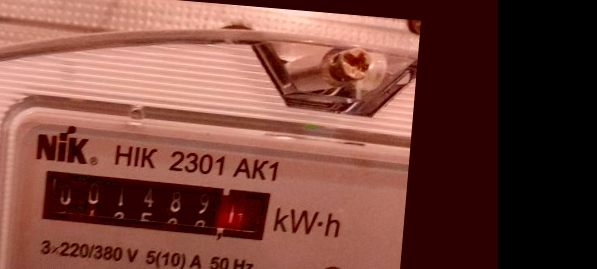0: (84, 178, 102, 204), (56, 179, 73, 206)
1: (112, 179, 129, 209), (223, 195, 238, 225)
4: (139, 182, 157, 210)
8: (165, 185, 184, 213)
9: (194, 189, 211, 215)
screen: (25, 157, 286, 254)
